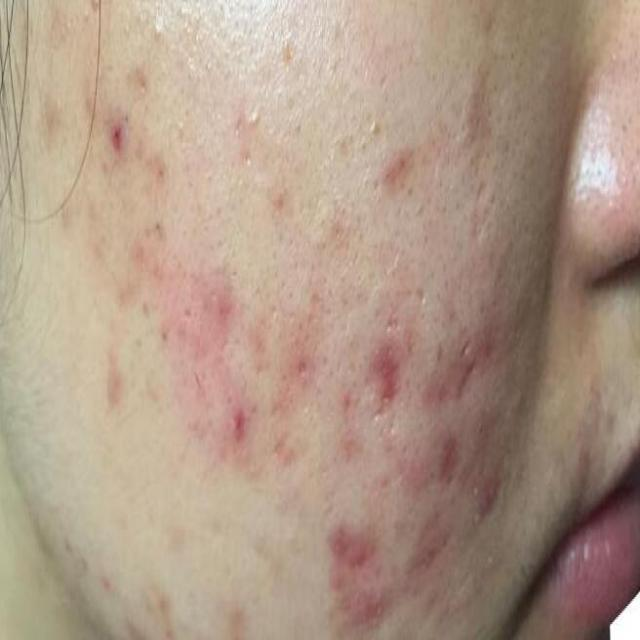blackheads: (326, 515, 383, 640), (429, 311, 488, 406), (363, 326, 405, 428), (192, 249, 230, 336), (378, 140, 417, 193), (224, 395, 253, 460), (435, 425, 460, 497), (100, 347, 127, 404), (100, 106, 128, 156), (36, 91, 61, 141), (150, 574, 173, 622), (293, 345, 314, 392), (131, 59, 151, 95), (150, 9, 168, 43), (146, 213, 166, 241), (244, 104, 262, 132), (97, 563, 112, 592)
